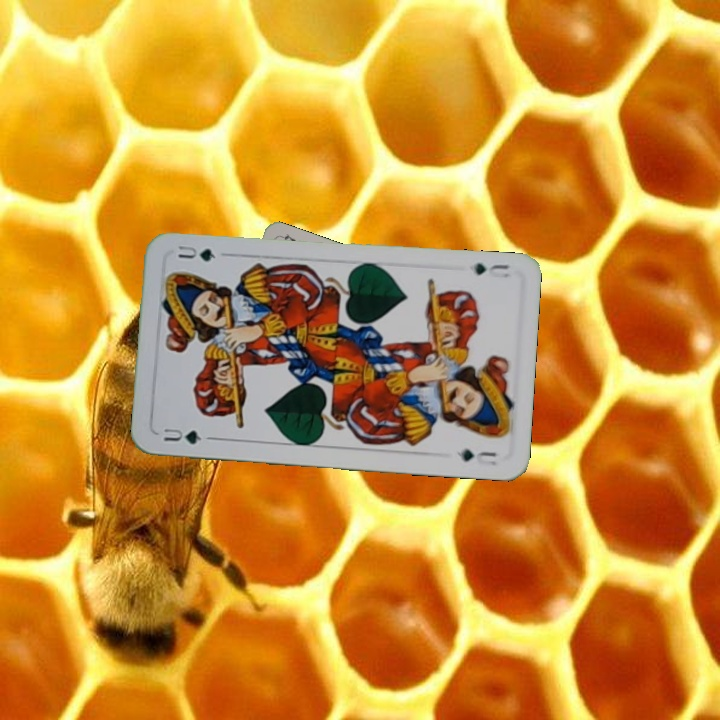GU: (159, 424, 204, 447), (469, 258, 513, 281)
